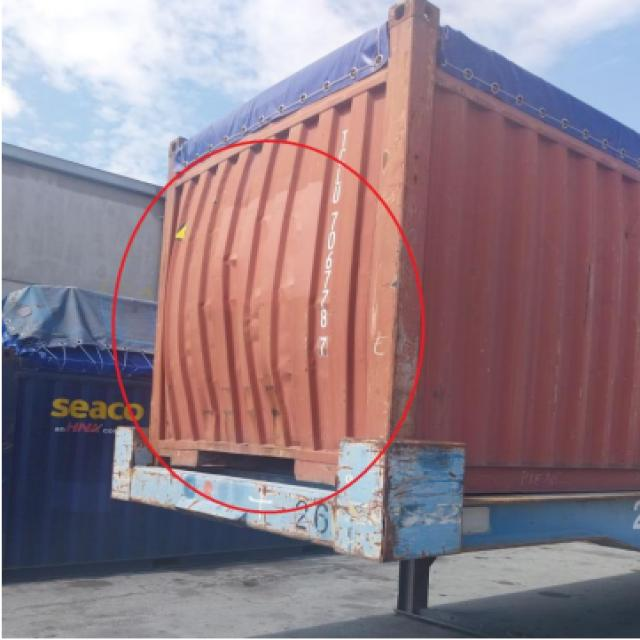dent: (145, 170, 337, 469)
